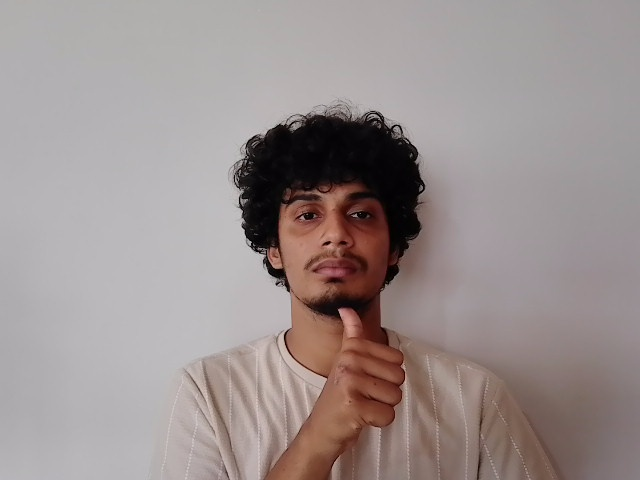not: (287, 280, 415, 428)
